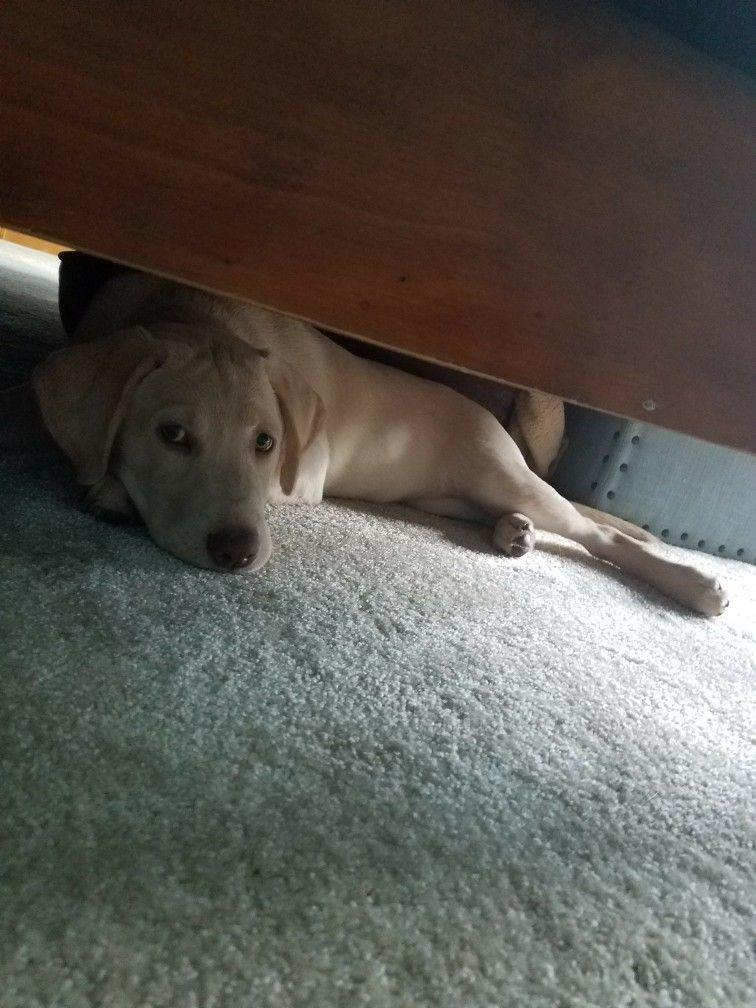puppy-dog: (27, 278, 730, 620)
